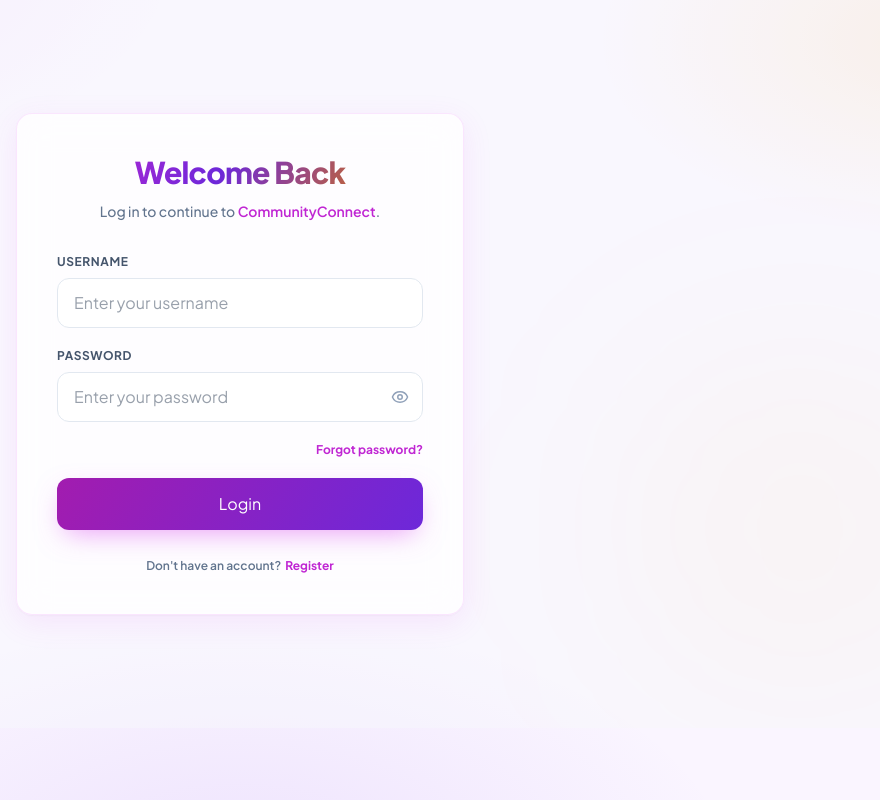
Test: Login › falls back to a generic error for unrecognized payloads
In the field labelled "Username": (240, 303) x1=57 y1=278 x2=423 y2=328, type "alice"
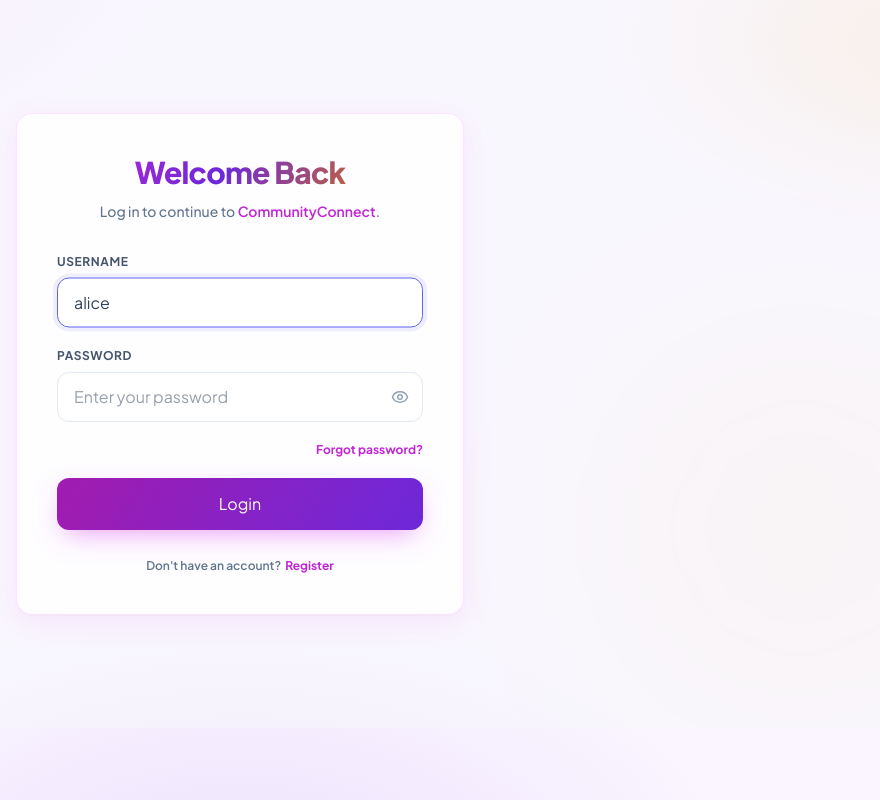
In the password field labelled "Password": (240, 397) x1=57 y1=372 x2=423 y2=422, type "secret123"
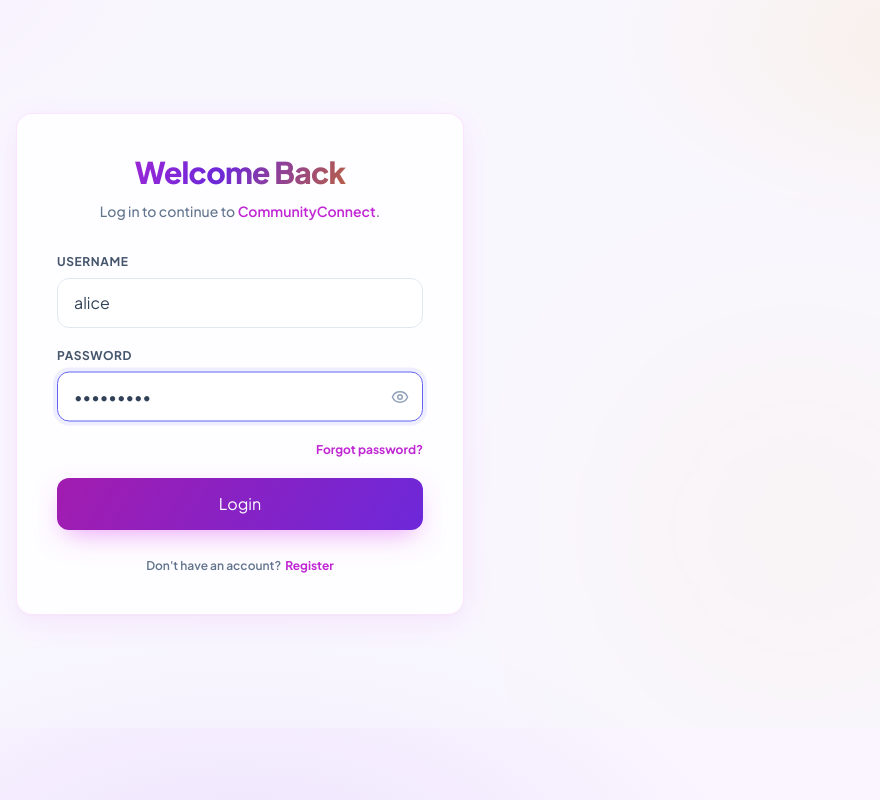
Click the button "Login": (240, 504) x1=57 y1=478 x2=423 y2=530
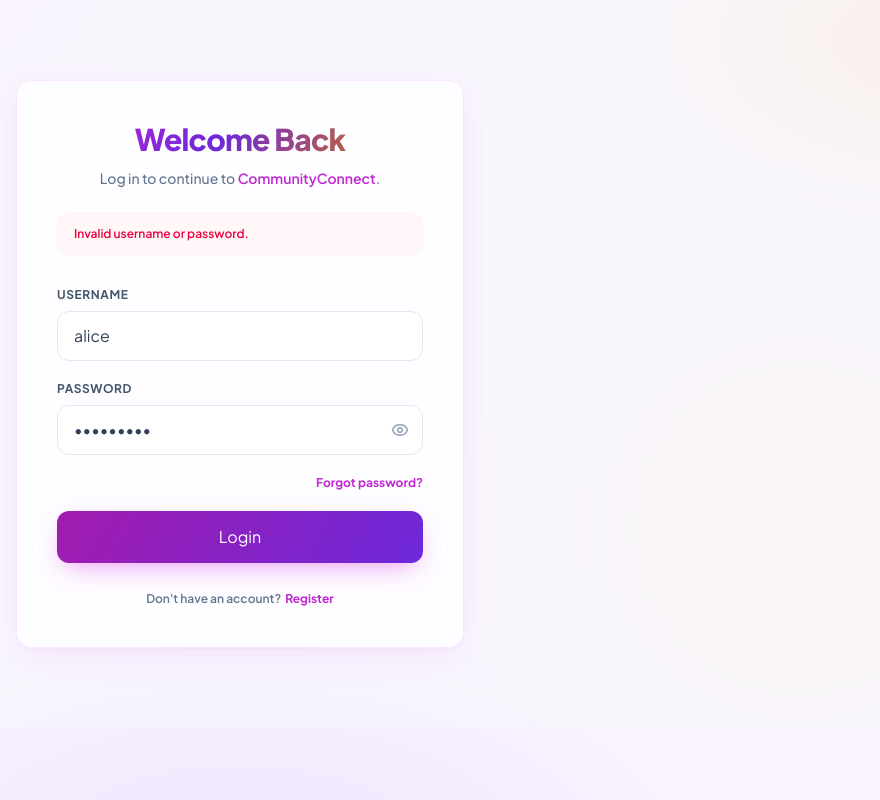
Now the text "Invalid username or password." is shown, box x1=57 y1=213 x2=423 y2=255
